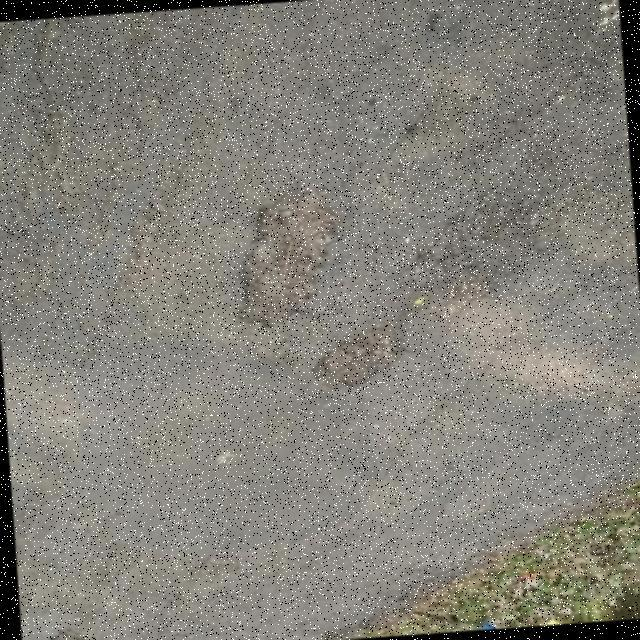Pothole: (231, 186, 340, 328), (315, 329, 407, 384)
